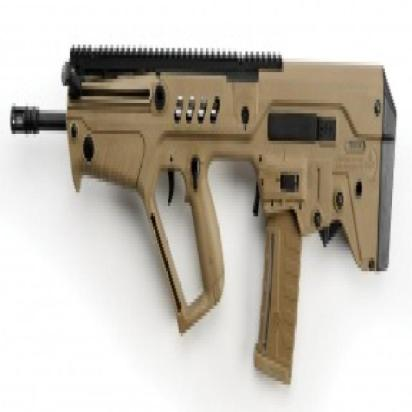Gun: (9, 32, 402, 392)
